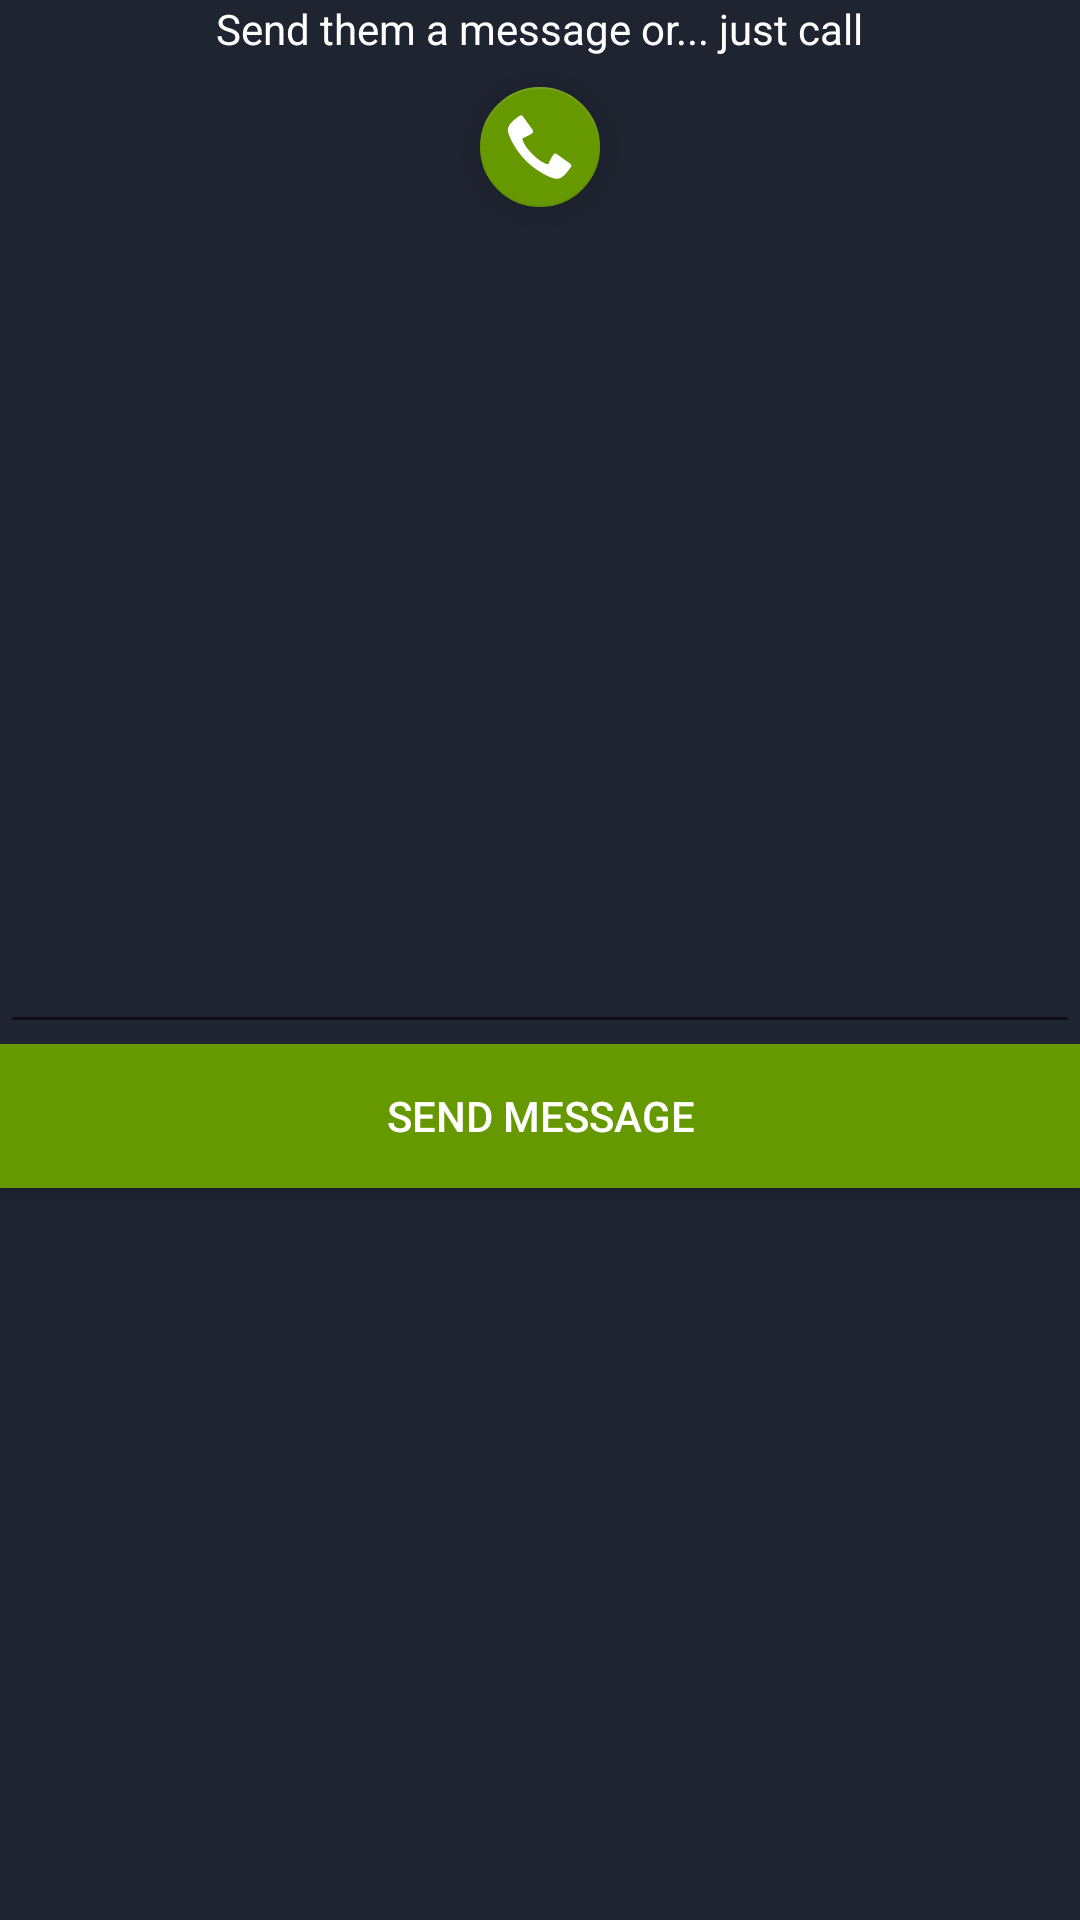

Icon bounding boxes for this 1080w x 1920h phone screenshot, format rect(x1, y1, x2, y2):
phone call: rect(480, 87, 600, 207)
